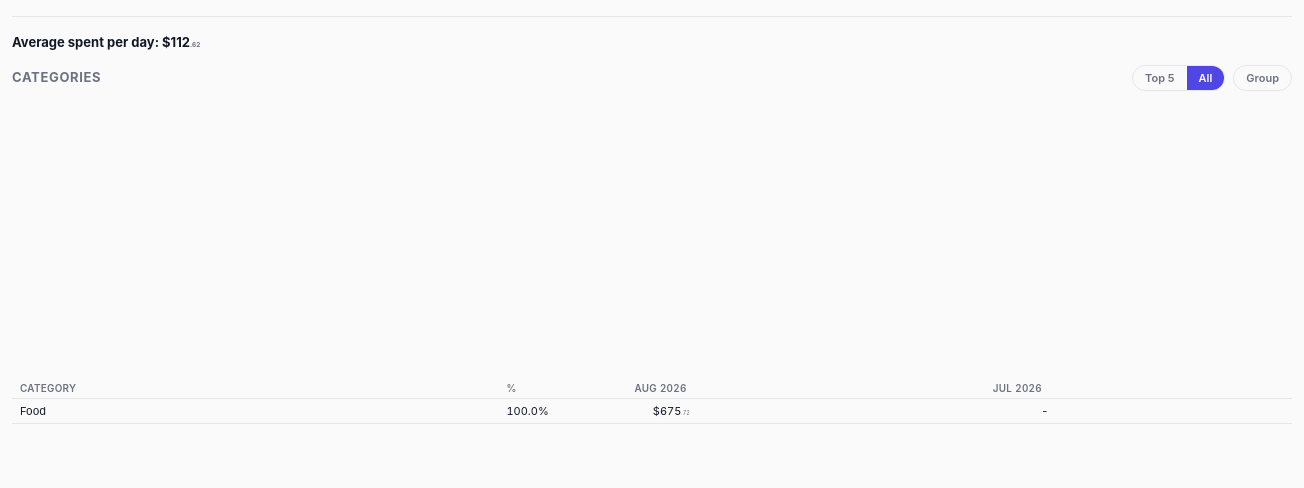
Test: MonthDetailsPanel — controls › parses currency-symbol-formatted USD values in expanded transaction rows
Click the button "Food". click: (33, 411)
box: [12,401,490,421]
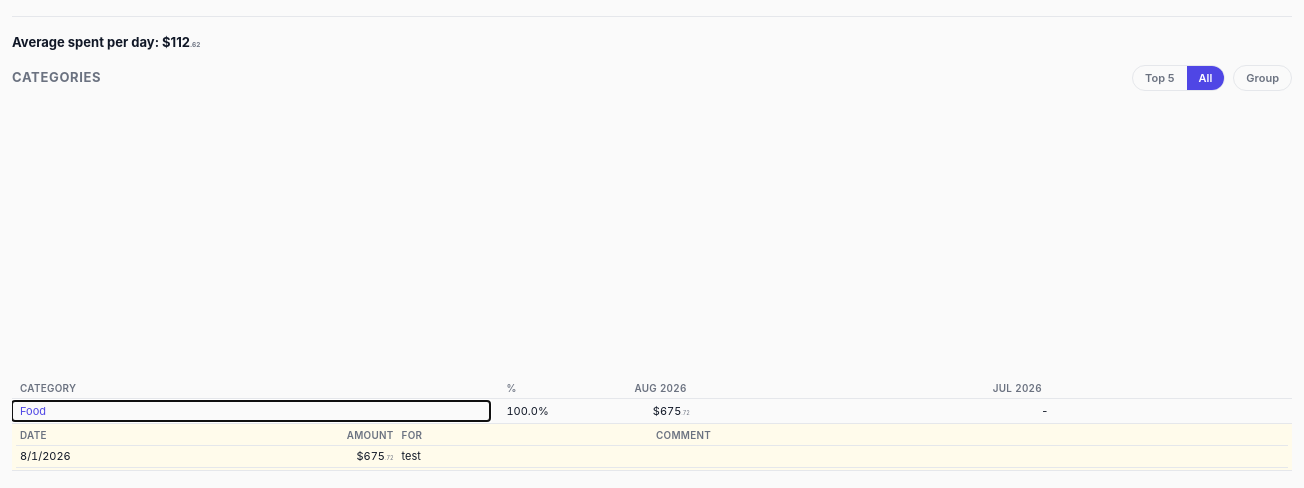
Expected: the table named "Food transactions" shows "$675.72", [16,426,1288,468]
